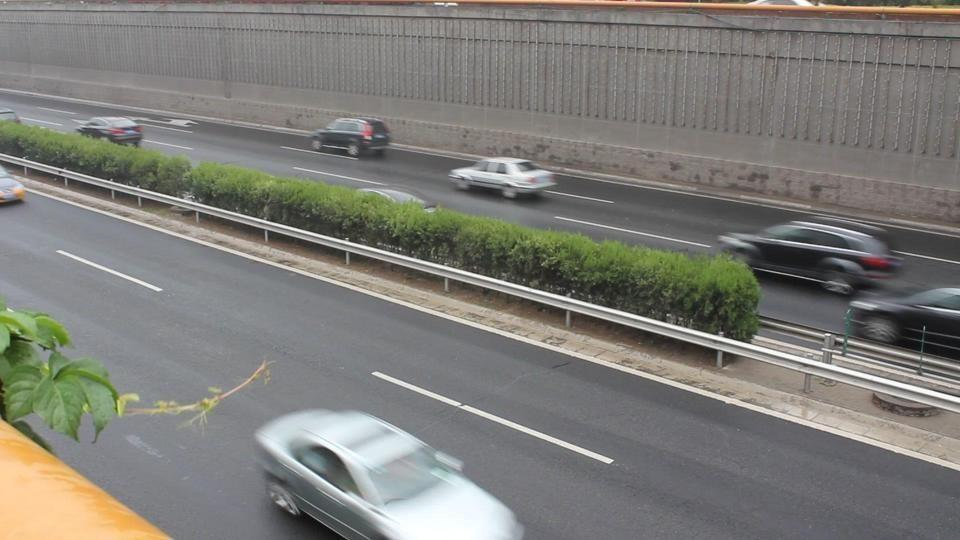car: (253, 408, 524, 536), (716, 220, 904, 296), (842, 285, 959, 351), (448, 156, 560, 200), (308, 116, 391, 158), (74, 116, 144, 146), (0, 169, 26, 205)
